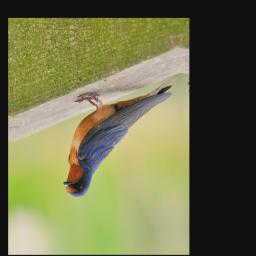Swallow: (54, 72, 179, 204)
